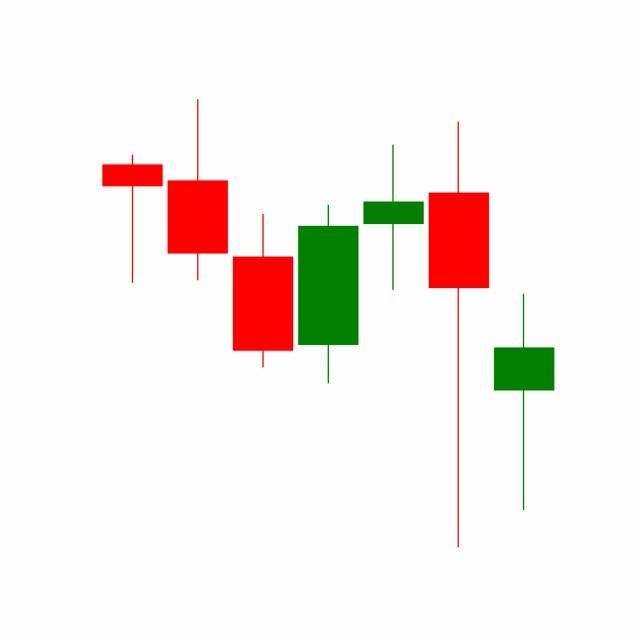Three Outside Up-Down: (360, 117, 556, 549)
